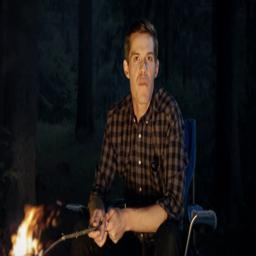fire: (10, 207, 43, 256)
